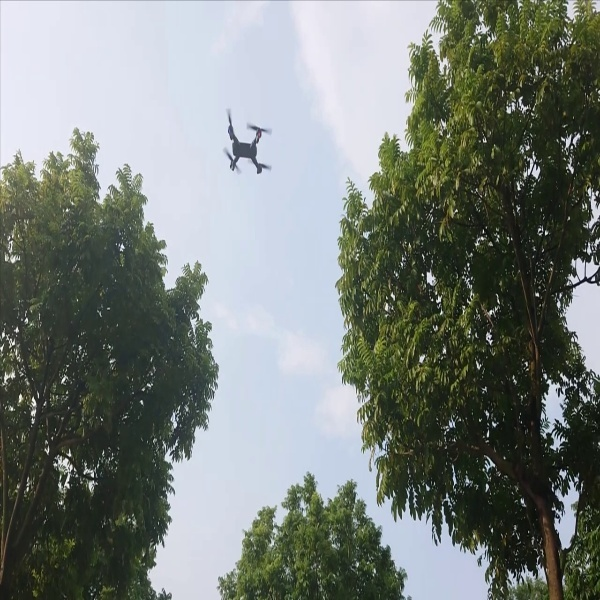drone: (211, 104, 278, 185)
